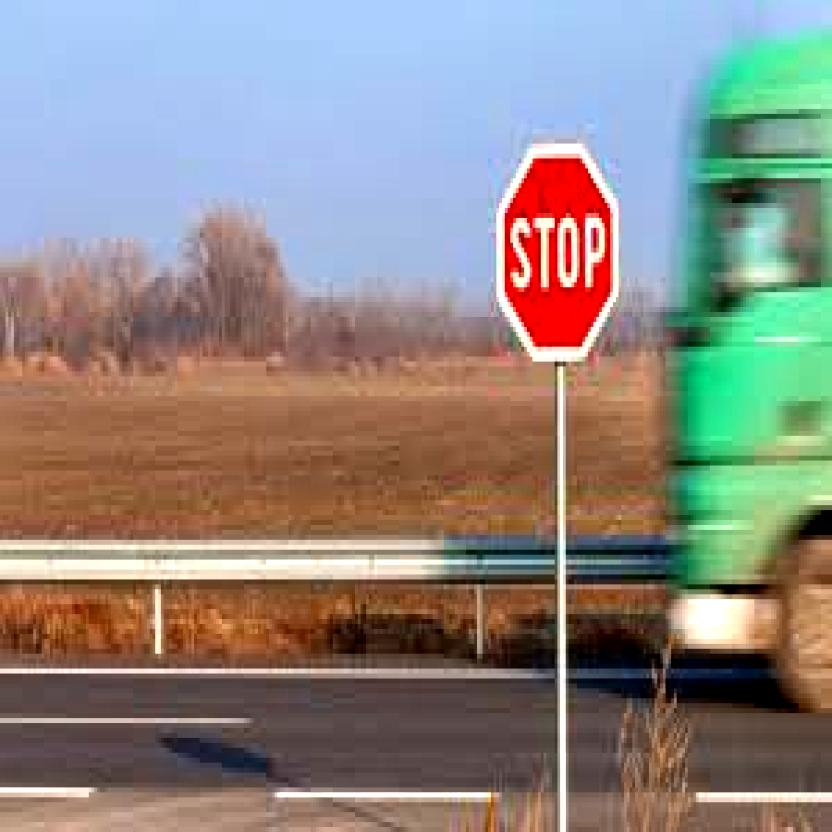Pole: (554, 361, 568, 828)
Sign: (496, 141, 622, 363)
